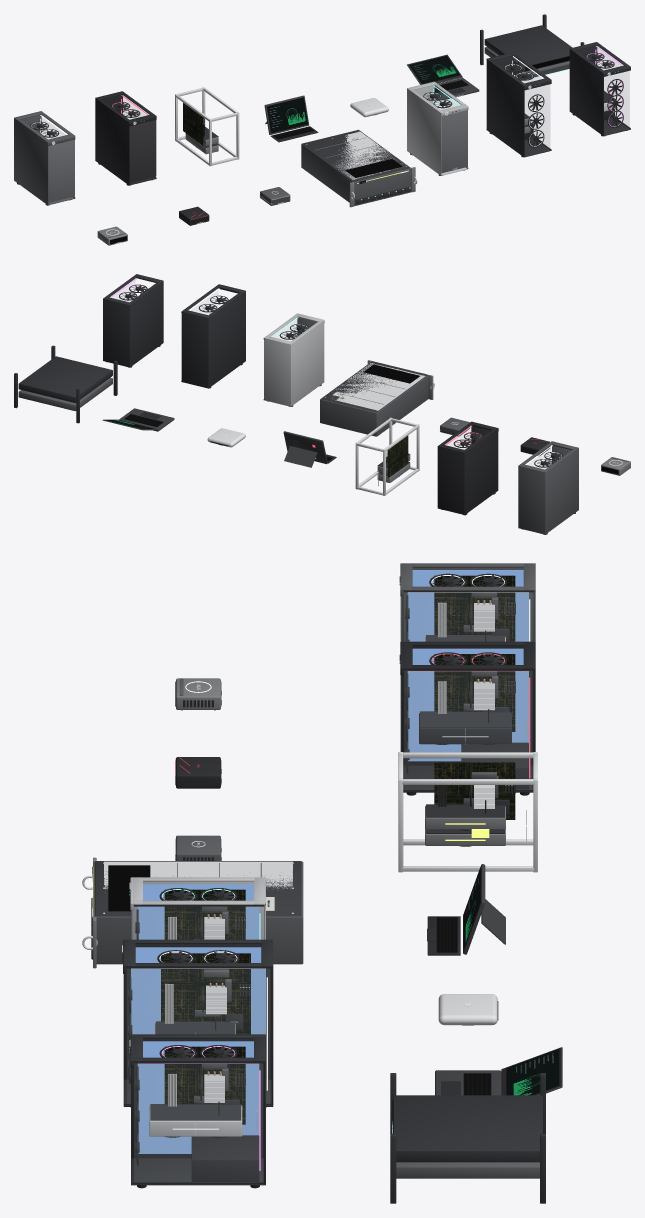
The model's file is fleet_assets.glb.
The picture shows the model from 3 angles, top to bottom: view 1: azimuth 30°, elevation 25°; view 2: azimuth 150°, elevation 25°; view 3: azimuth 270°, elevation 25°; orthographic projection. The views are drawn at different scales.
Visible parts, largest first — view 1: tower_dual_2080.black_metal, tower_4080.black_metal, tower_3090ti.matte_black, tower_white_4060.white_case, tower_titan.graphite, cloud_blade.black_metal, server_a100.graphite, server_a100.powder, tower_3090ti.slats_cut, tower_white_4060.holes_cut, tower_titan.holes_cut, bench_dual_2080.alu (+17 smaller); view 2: tower_dual_2080.black_metal, tower_3090ti.matte_black, tower_titan.graphite, tower_white_4060.white_case, tower_4080.black_metal, cloud_blade.black_metal, server_a100.graphite, server_a100.alu, bench_dual_2080.alu, rog_z13.space_black, server_a100.powder, cloud_blade.graphite (+4 smaller); view 3: tower_4080.glass, tower_3090ti.glass, cloud_blade.black_metal, tower_dual_2080.glass, tower_4080.black_metal, tower_titan.glass, tower_3090ti.matte_black, tower_dual_2080.black_metal, bench_dual_2080.alu, tower_4080.inner_glow, tower_white_4060.glass, tower_3090ti.inner_glow (+29 smaller).
Boxes of the visible parts, x1,y1,x2,y2 form: tower_dual_2080.black_metal: [486, 52, 551, 157]; tower_4080.black_metal: [569, 42, 630, 136]; tower_3090ti.matte_black: [95, 91, 156, 185]; tower_white_4060.white_case: [407, 81, 468, 175]; tower_titan.graphite: [14, 111, 75, 205]; cloud_blade.black_metal: [480, 14, 584, 80]; server_a100.graphite: [301, 144, 411, 205]; server_a100.powder: [302, 129, 410, 181]; tower_3090ti.slats_cut: [129, 120, 156, 182]; tower_white_4060.holes_cut: [441, 110, 467, 173]; tower_titan.holes_cut: [48, 139, 74, 202]; bench_dual_2080.alu: [175, 87, 239, 166]; tower_dual_2080.black_metal: [181, 284, 245, 388]; tower_3090ti.matte_black: [437, 421, 498, 514]; tower_titan.graphite: [518, 441, 578, 534]; tower_white_4060.white_case: [264, 313, 324, 406]; tower_4080.black_metal: [103, 274, 163, 367]; cloud_blade.black_metal: [14, 345, 117, 423]; server_a100.graphite: [320, 375, 428, 436]; server_a100.alu: [332, 363, 434, 410]; bench_dual_2080.alu: [355, 417, 419, 495]; rog_z13.space_black: [283, 431, 327, 467]; server_a100.powder: [321, 361, 427, 412]; cloud_blade.graphite: [18, 377, 112, 411]; tower_4080.glass: [134, 1064, 262, 1181]; tower_3090ti.glass: [404, 671, 531, 789]; cloud_blade.black_metal: [390, 1073, 545, 1203]; tower_dual_2080.glass: [127, 969, 269, 1103]; tower_4080.black_metal: [130, 1034, 265, 1185]; tower_titan.glass: [404, 593, 531, 640]; tower_3090ti.matte_black: [399, 641, 535, 792]; tower_dual_2080.black_metal: [123, 939, 273, 1106]; bench_dual_2080.alu: [398, 752, 537, 872]; tower_4080.inner_glow: [137, 1041, 259, 1153]; tower_white_4060.glass: [134, 907, 262, 938]; tower_3090ti.inner_glow: [407, 648, 528, 761].
Bounding box in the file's own units: 4.08 × 0.532 × 1.6.
Materials: 36 (10 with a texture image).
